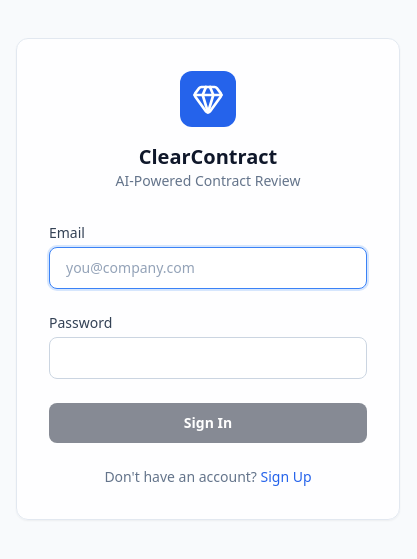
Test: LoginPage › shows "Invalid email or password" on auth error
Type "test@example.com" into the field labelled "Email" at (208, 268), box x1=49 y1=247 x2=367 y2=289
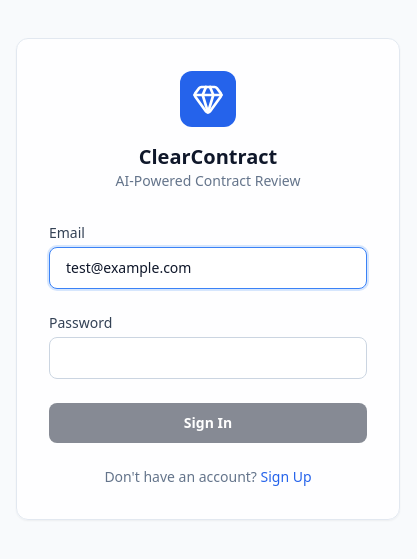
Type "wrong" into the password field labelled "Password" at (208, 358), box x1=49 y1=337 x2=367 y2=379
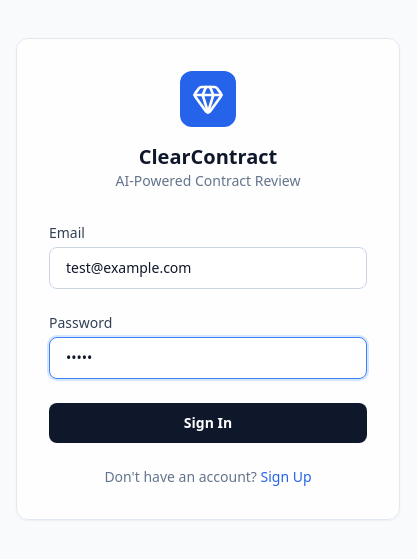
Click the button "Sign In" at (208, 423), box x1=49 y1=403 x2=367 y2=443
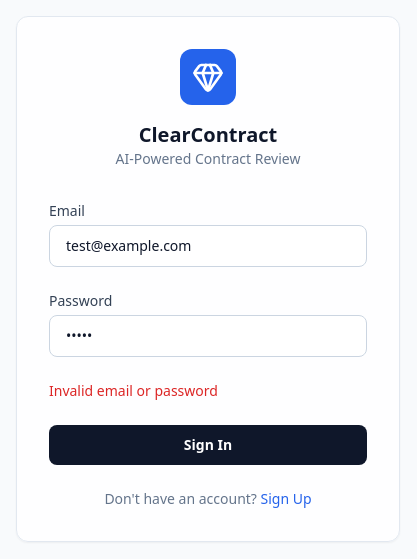
Now the message reads "Invalid email or password", box x1=49 y1=381 x2=218 y2=400
